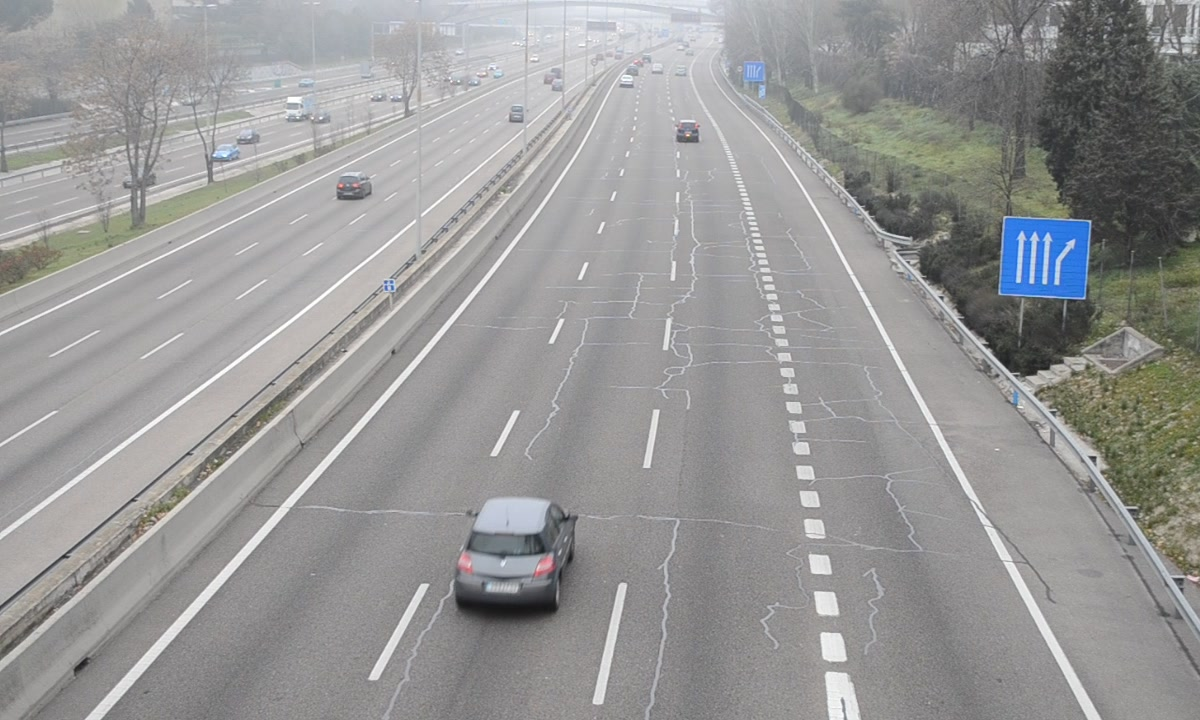car: (456, 498, 573, 612), (675, 120, 700, 142)
